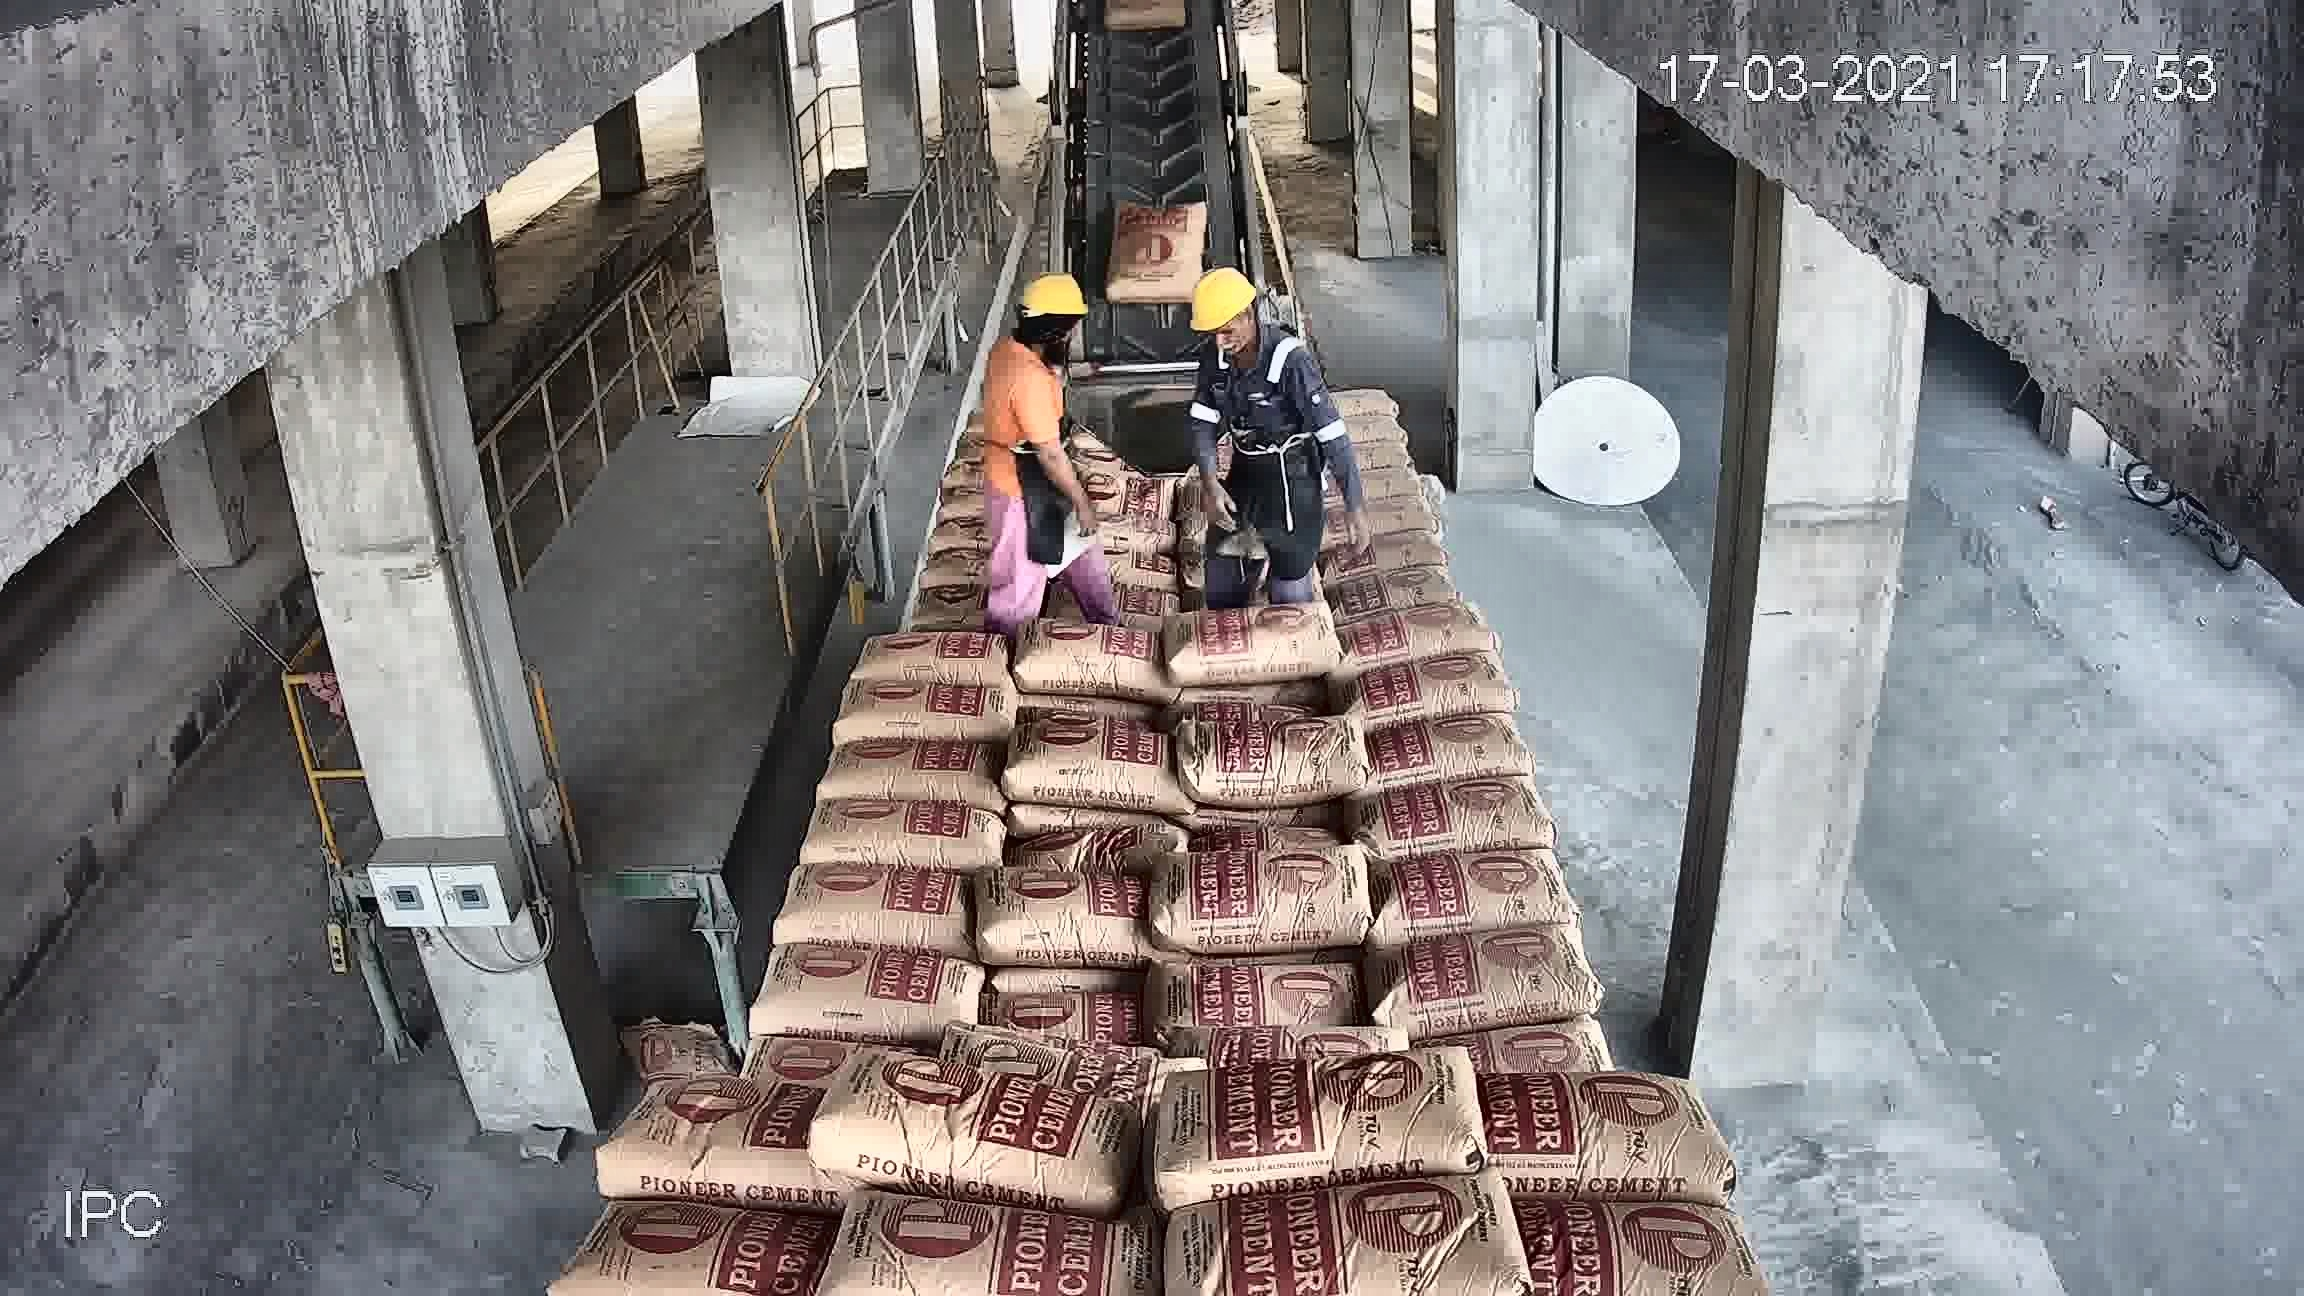bag: (1103, 195, 1209, 297)
bag_h: (824, 1048, 1135, 1217), (1143, 1055, 1483, 1201), (801, 1188, 1163, 1294), (1166, 1176, 1513, 1287), (593, 1086, 831, 1222), (1472, 1078, 1717, 1199), (1506, 1180, 1763, 1294), (1367, 916, 1608, 1035), (554, 1198, 850, 1291), (745, 943, 995, 1046), (965, 869, 1168, 968), (1158, 862, 1377, 953), (1367, 847, 1575, 942), (779, 855, 973, 954), (1177, 714, 1362, 812), (1350, 771, 1551, 861), (798, 796, 1024, 870), (1155, 961, 1362, 1041), (1002, 717, 1184, 802), (1353, 711, 1533, 793), (948, 1021, 1176, 1086), (1173, 600, 1329, 692), (1008, 821, 1193, 896), (820, 734, 1008, 807), (1010, 630, 1180, 707), (1320, 603, 1499, 676), (1334, 654, 1519, 723), (987, 973, 1150, 1046), (1435, 1022, 1625, 1084), (836, 684, 1008, 748), (818, 625, 978, 695), (1331, 570, 1461, 625), (1317, 525, 1445, 579), (1318, 497, 1434, 546), (916, 513, 992, 562), (896, 585, 994, 620), (902, 551, 983, 587)
belt: (1032, 5, 1263, 388)
